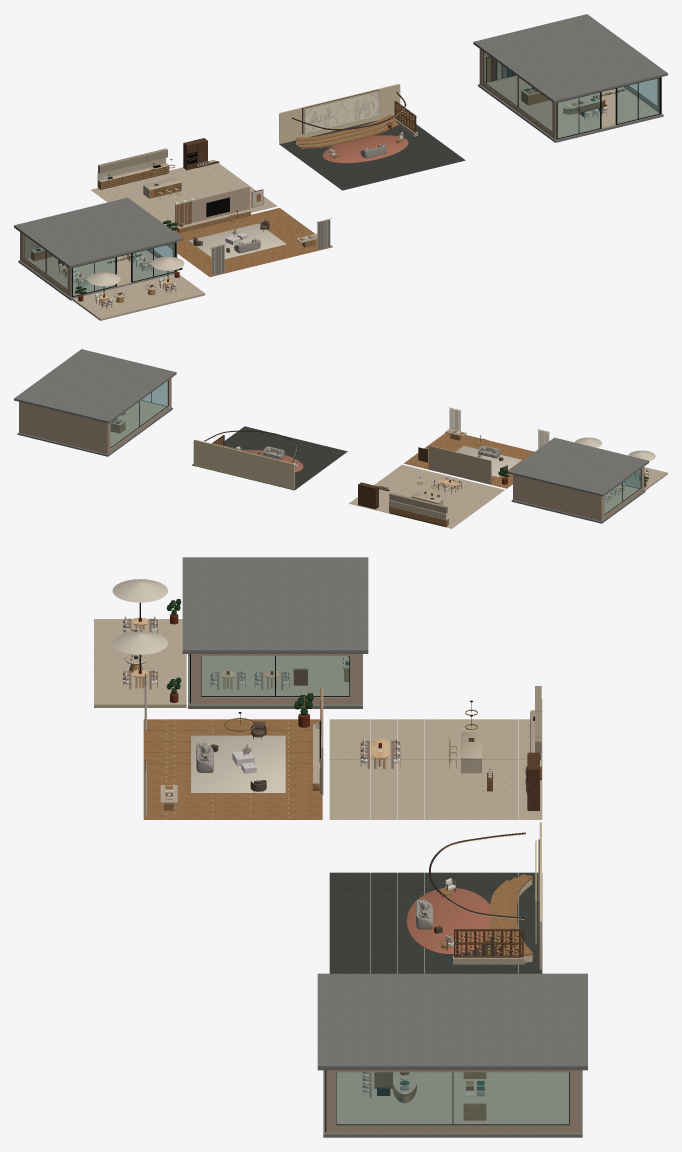
Rendered from gallery.glb.
3 renders of one model, top to bottom at view 1: azimuth 30°, elevation 25°; view 2: azimuth 150°, elevation 25°; view 3: azimuth 270°, elevation 25°, orthographic. The views are drawn at different scales.
Visible parts, largest first — view 1: Roof (×2), Charcoal_Stone_Floor, Oak_Plank_Floor, Stone_Tile_Floor, Library_Floor, Side_Glass_glass (×2), Cafe_Terrace, Front_Right_glass (×2), Front_Left_glass (×2), Floor, Perspective-corrected study / Javanese wayang, Plaster surround (+6 smaller); view 2: Roof (×2), Stone_Tile_Floor, Rear_0_0, Plaster surround, Charcoal_Stone_Floor, Rear, Side_Glass_glass (×2), Media_Backdrop, Oak_Plank_Floor, Library_Floor, Foundation (×2), Oversized_Wool_Rug (+7 smaller); view 3: Roof (×2), Stone_Tile_Floor, Side_Glass_glass.001 (×2), Charcoal_Stone_Floor, Oak_Plank_Floor, Library_Floor, Cafe_Terrace, Floor, Oversized_Wool_Rug, Rounded textile island, Side_1_0.001 (×2), Foundation (×2) (+3 smaller).
Part boxes in pixels (x1,y1,x2,y2): Roof (×2): (14, 14, 667, 268); Charcoal_Stone_Floor: (279, 117, 465, 190); Oak_Plank_Floor: (166, 208, 332, 276); Stone_Tile_Floor: (91, 159, 277, 231); Library_Floor: (486, 76, 657, 137); Side_Glass_glass (×2): (24, 52, 551, 289); Cafe_Terrace: (72, 274, 205, 320); Front_Right_glass (×2): (133, 78, 659, 281); Front_Left_glass (×2): (73, 93, 599, 296); Floor: (27, 250, 174, 297); Perspective-corrected study / Javanese wayang: (304, 91, 378, 133); Plaster surround: (279, 84, 400, 143); Roof (×2): (14, 349, 649, 496); Stone_Tile_Floor: (349, 464, 504, 528); Rear_0_0: (19, 402, 107, 453); Plaster surround: (193, 439, 294, 489); Charcoal_Stone_Floor: (192, 426, 347, 490); Rear: (513, 475, 601, 520); Side_Glass_glass (×2): (111, 381, 640, 513); Media_Backdrop: (428, 445, 491, 484); Oak_Plank_Floor: (404, 433, 534, 488); Library_Floor: (110, 401, 165, 446); Foundation (×2): (17, 407, 645, 523); Oversized_Wool_Rug: (455, 445, 521, 477); Roof (×2): (182, 557, 587, 1070); Stone_Tile_Floor: (329, 719, 542, 819); Side_Glass_glass.001 (×2): (202, 656, 568, 1124); Charcoal_Stone_Floor: (329, 872, 542, 973); Oak_Plank_Floor: (143, 719, 322, 819); Library_Floor: (336, 1072, 568, 1124); Cafe_Terrace: (94, 619, 186, 707); Floor: (191, 656, 359, 704); Oversized_Wool_Rug: (191, 735, 285, 793); Rounded textile island: (406, 888, 490, 954); Side_1_0.001 (×2): (201, 697, 569, 1132); Foundation (×2): (188, 654, 582, 1137).
Size of the model in its own units: 73 by 4.8 by 29.25.
Materials: 53 (24 with a texture image).
